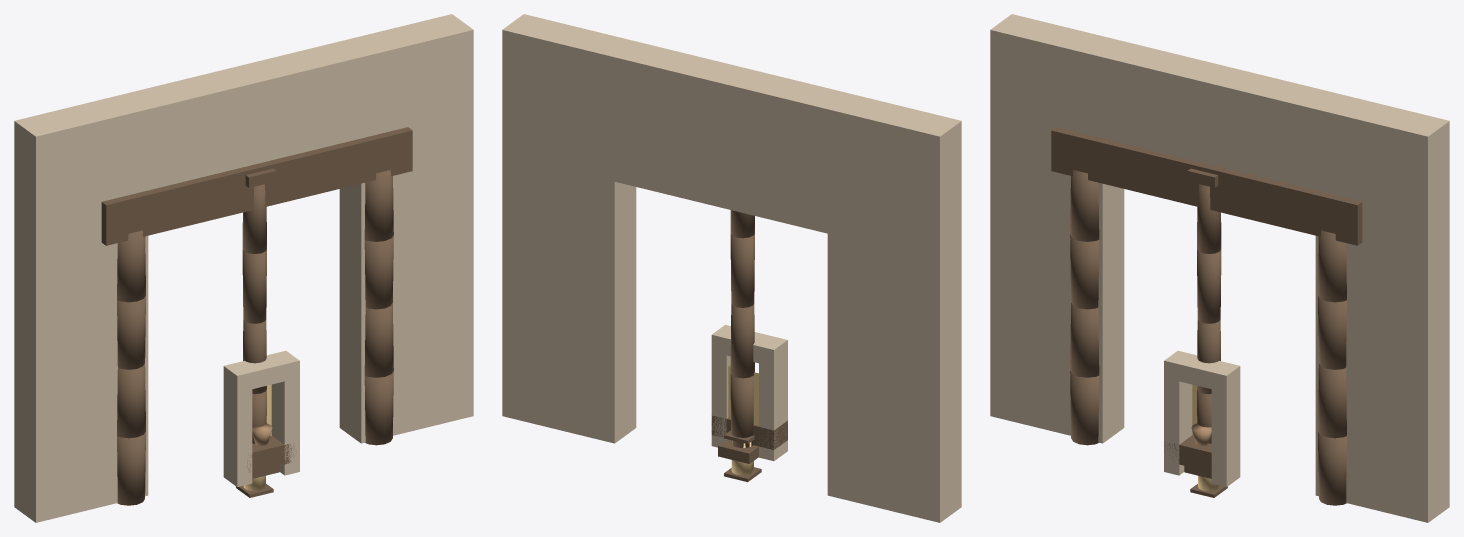
Rendered from traditions.glb.
The picture shows the model from 3 angles, left to right: view 1: azimuth 30°, elevation 25°; view 2: azimuth 150°, elevation 25°; view 3: azimuth 330°, elevation 25°; orthographic projection.
Visible parts, largest first — view 1: Plaster_shoulder, Plaster_shoulder.001, Plaster_header, Wood_lintel, Plaster_nL, Plaster_nR, Wood_post.001, Wood_post.005, Wood_post, Wood_post.002, Wood_post.004, Wood_post.006 (+8 smaller); view 2: Plaster_shoulder, Plaster_shoulder.001, Plaster_header, Plaster_nL, Plaster_nR, Wood_postshaft.001, Wood_postshaft.002, Wood_postshaft, Plaster_nT, Wood_nShelf, Wood_postbase, Wood_postshaft.003; view 3: Plaster_shoulder.001, Plaster_shoulder, Plaster_header, Wood_lintel, Plaster_nR, Plaster_nL, Wood_post.005, Wood_post.001, Wood_post.004, Wood_post.006, Wood_post, Wood_post.002 (+8 smaller).
Boxes of the visible parts, x1,y1,x2,y2 form: Plaster_shoulder: [14, 93, 148, 522]; Plaster_shoulder.001: [339, 14, 473, 443]; Plaster_header: [127, 41, 367, 191]; Wood_lintel: [101, 127, 412, 245]; Plaster_nL: [223, 362, 252, 487]; Plaster_nR: [271, 350, 299, 475]; Wood_post.001: [117, 363, 145, 438]; Wood_post.005: [364, 303, 393, 377]; Wood_post: [117, 431, 145, 505]; Wood_post.002: [117, 296, 145, 369]; Wood_post.004: [364, 371, 393, 445]; Wood_post.006: [364, 235, 393, 309]; Plaster_shoulder: [827, 93, 961, 522]; Plaster_shoulder.001: [502, 14, 636, 443]; Plaster_header: [608, 41, 848, 234]; Plaster_nL: [759, 339, 787, 461]; Plaster_nR: [711, 324, 730, 447]; Wood_postshaft.001: [730, 303, 754, 378]; Wood_postshaft.002: [730, 234, 754, 307]; Wood_postshaft: [730, 374, 753, 447]; Plaster_nT: [711, 326, 787, 366]; Wood_nShelf: [711, 415, 787, 449]; Wood_postbase: [718, 439, 758, 463]; Wood_postshaft.003: [730, 210, 754, 238]; Plaster_shoulder.001: [1315, 93, 1449, 522]; Plaster_shoulder: [990, 14, 1124, 443]; Plaster_header: [1096, 41, 1336, 190]; Wood_lintel: [1051, 127, 1362, 245]; Plaster_nR: [1211, 362, 1240, 487]; Plaster_nL: [1164, 350, 1192, 475]; Wood_post.005: [1318, 363, 1346, 438]; Wood_post.001: [1070, 303, 1099, 377]; Wood_post.004: [1318, 431, 1346, 505]; Wood_post.006: [1318, 296, 1346, 369]; Wood_post: [1070, 371, 1099, 445]; Wood_post.002: [1070, 235, 1099, 309].
Size of the model in its own units: 7 by 6.22 by 0.98.
